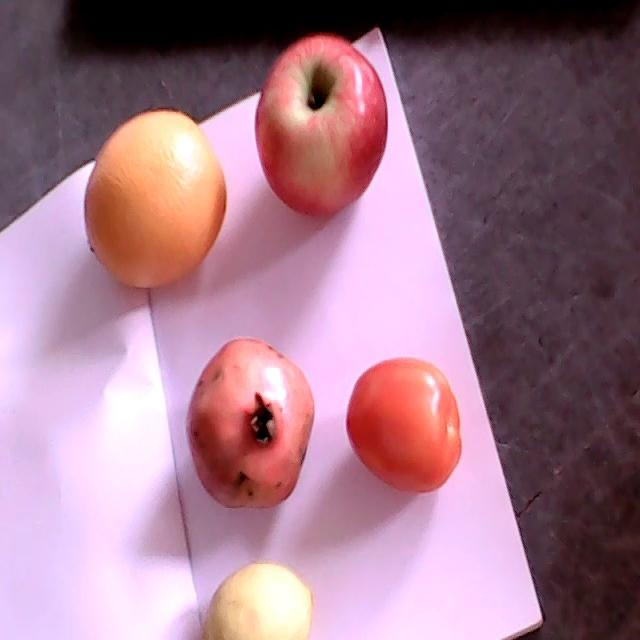apple: (256, 36, 388, 217)
lemon: (200, 564, 313, 639)
orange: (84, 110, 227, 289)
pomegranate: (186, 339, 315, 507)
tomato: (346, 357, 462, 493)
